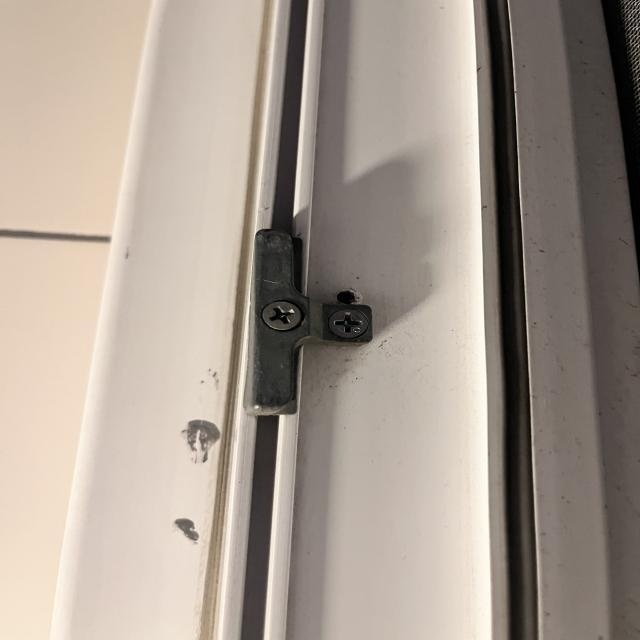phillips: (327, 309, 369, 339), (262, 301, 302, 331)
